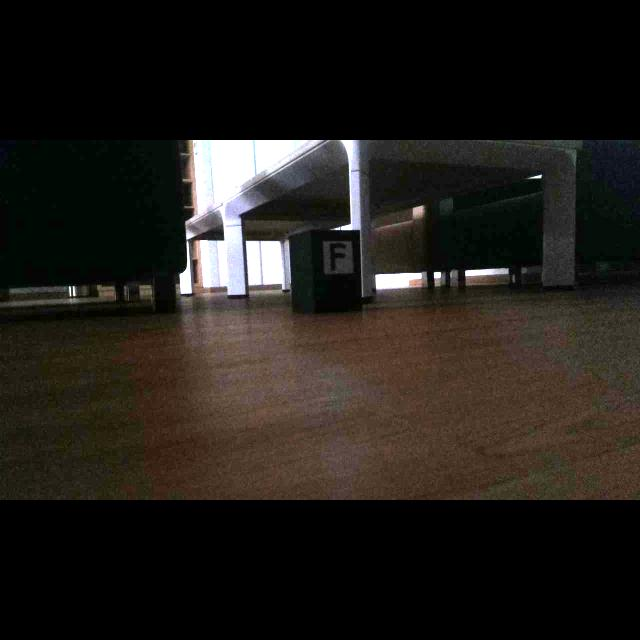F: (330, 243, 346, 271)
